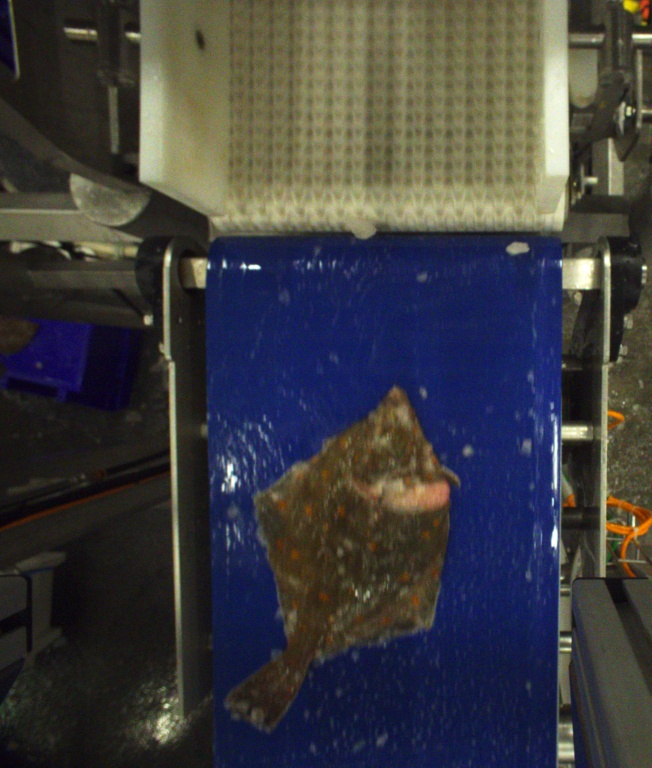PLE: (228, 386, 457, 730)
